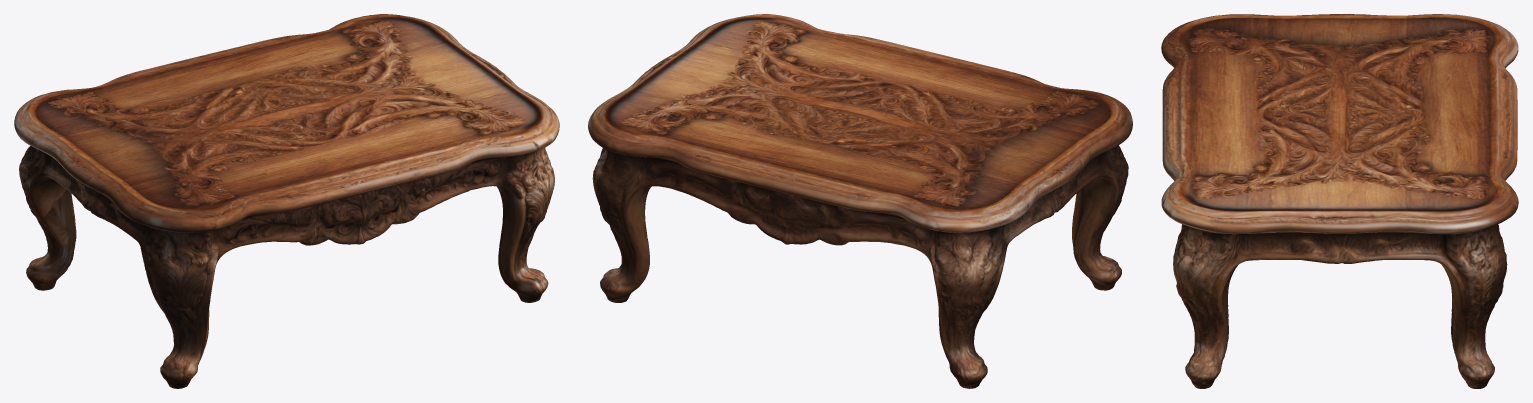
Rendered from vintage_low_table_0224080047_texture.fbx.
The picture shows the model from 3 angles, left to right: view 1: azimuth 30°, elevation 25°; view 2: azimuth 150°, elevation 25°; view 3: azimuth 270°, elevation 25°; orthographic projection. The views are drawn at different scales.
Visible parts, largest first — view 1: tmpsov9uo5q.ply; view 2: tmpsov9uo5q.ply; view 3: tmpsov9uo5q.ply.
Part boxes in pixels (x1,y1,x2,y2): tmpsov9uo5q.ply: (14,14,559,388); tmpsov9uo5q.ply: (588,14,1132,388); tmpsov9uo5q.ply: (1161,14,1518,388).
Bounding box in the file's own units: 200 × 82.25 × 143.
1 material, 1 textured.
